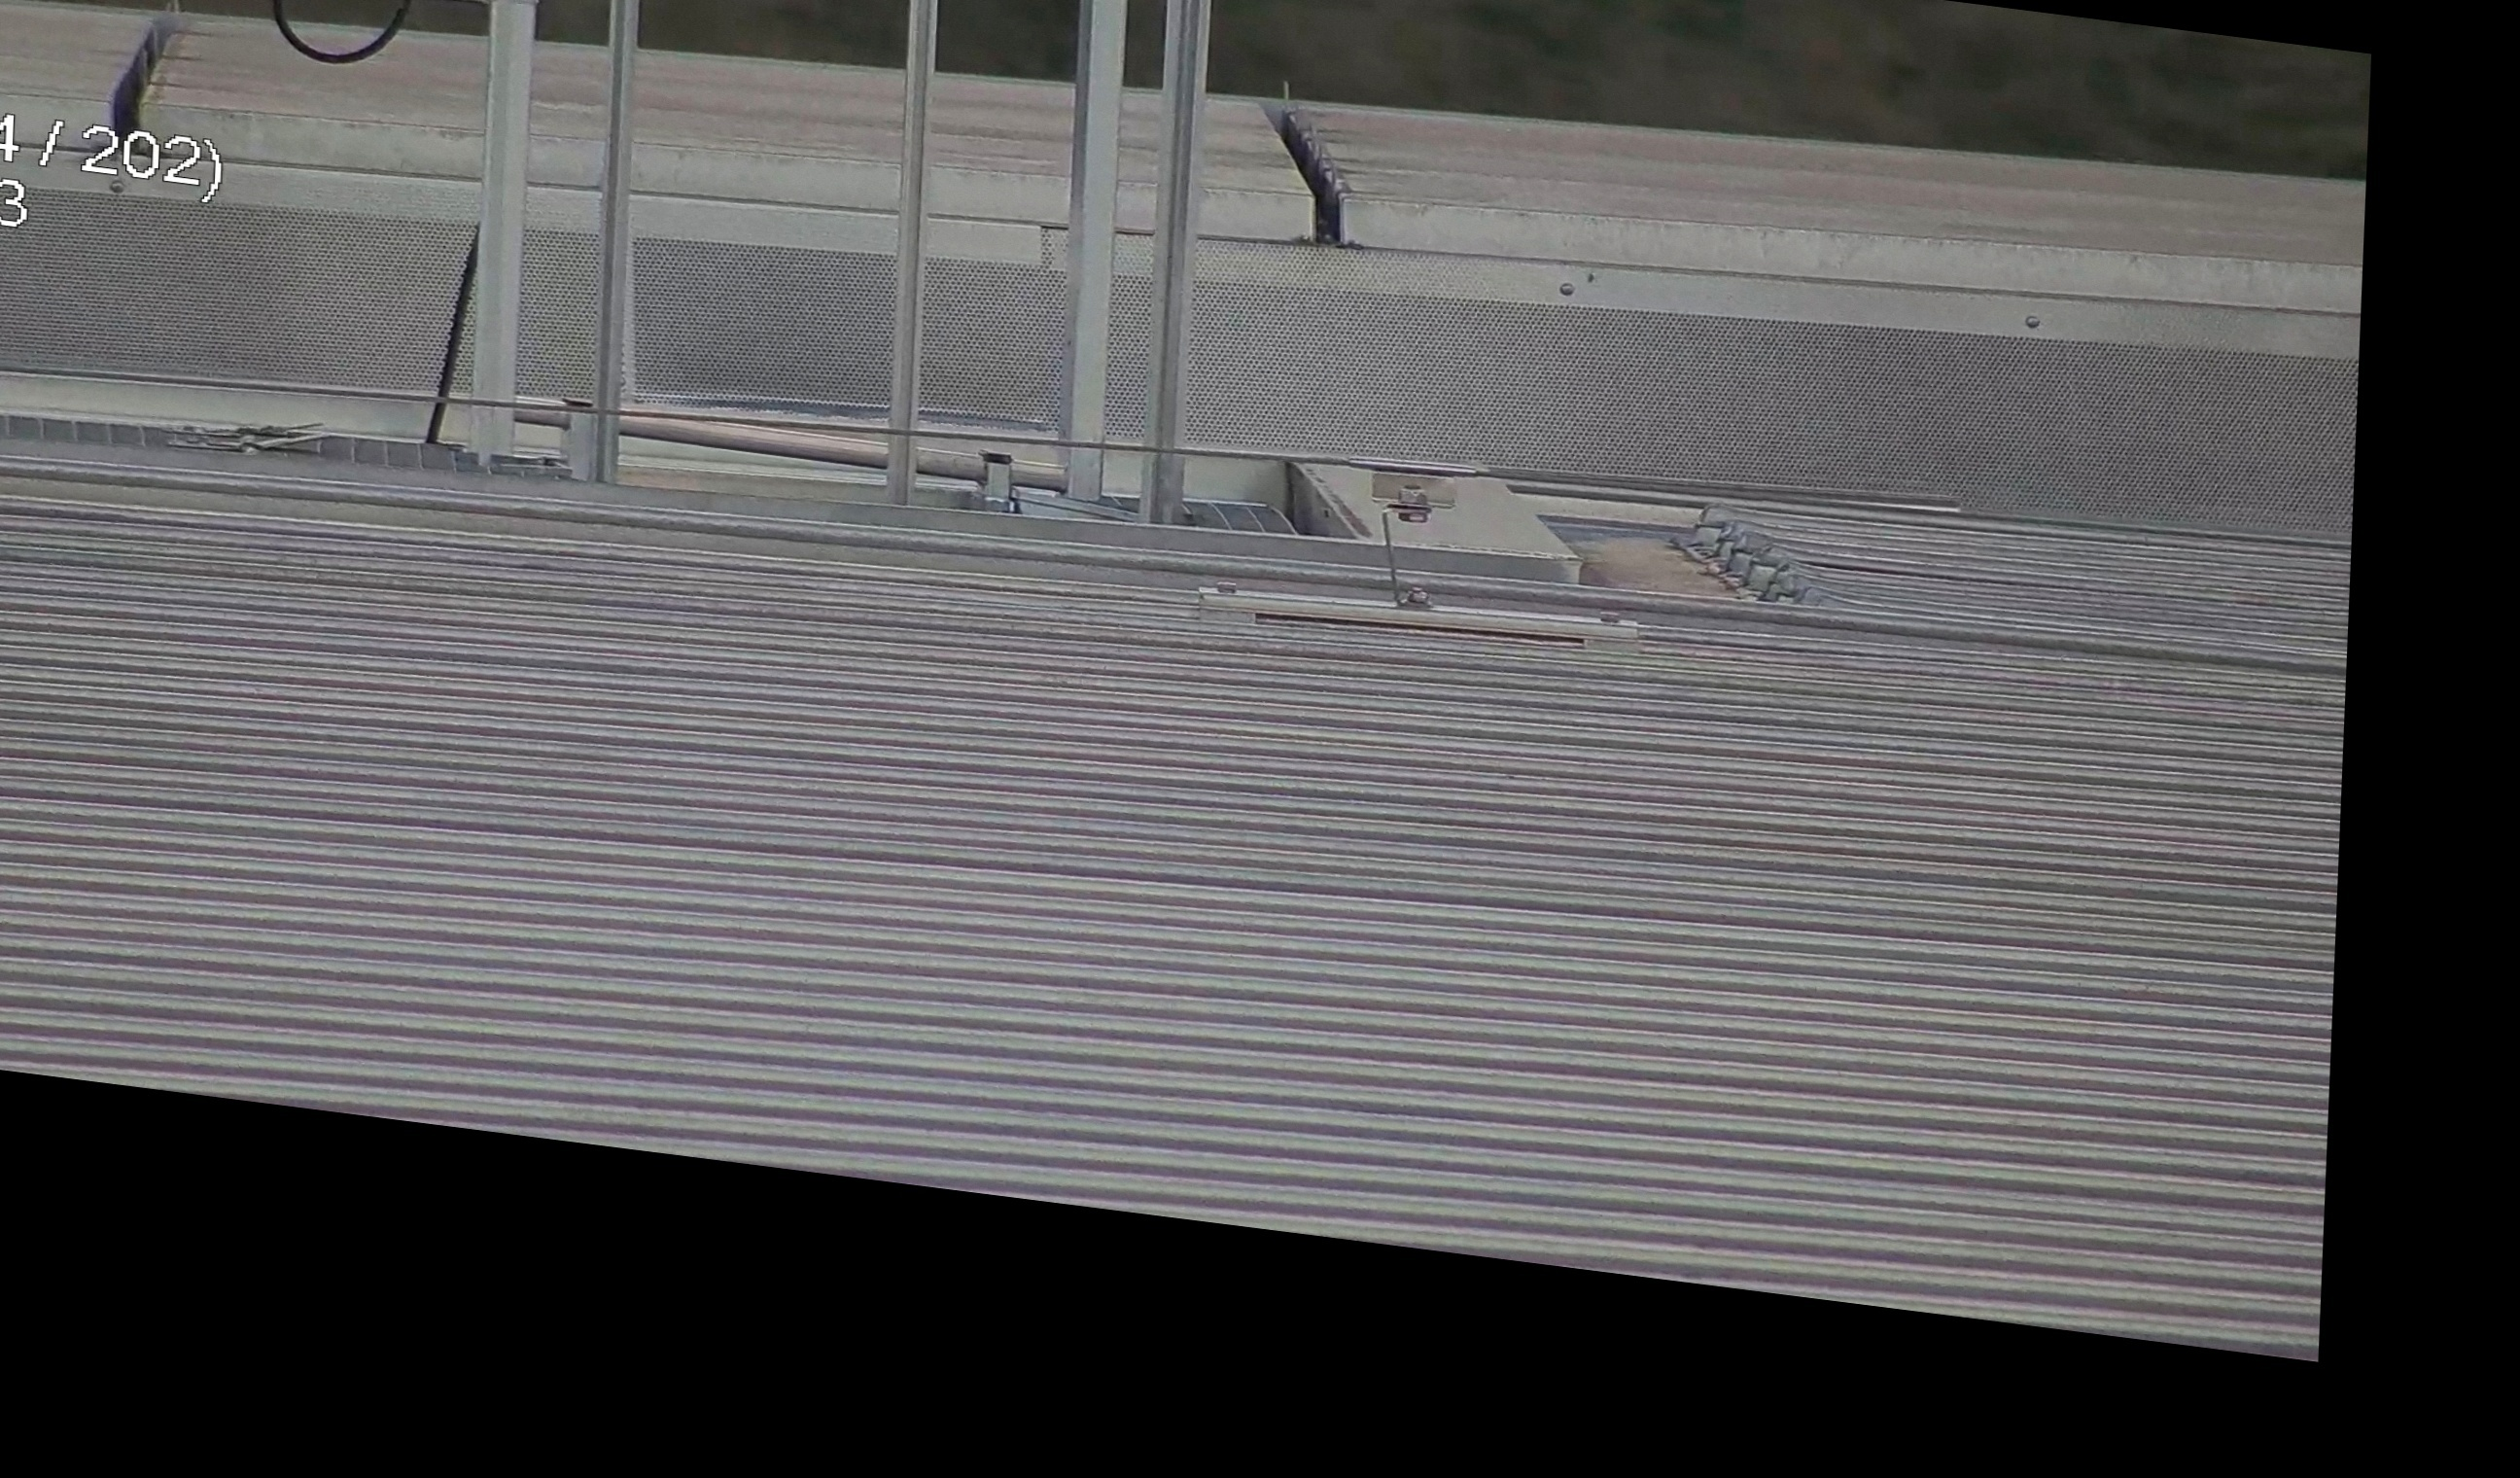Other: (1252, 72, 1377, 252)
